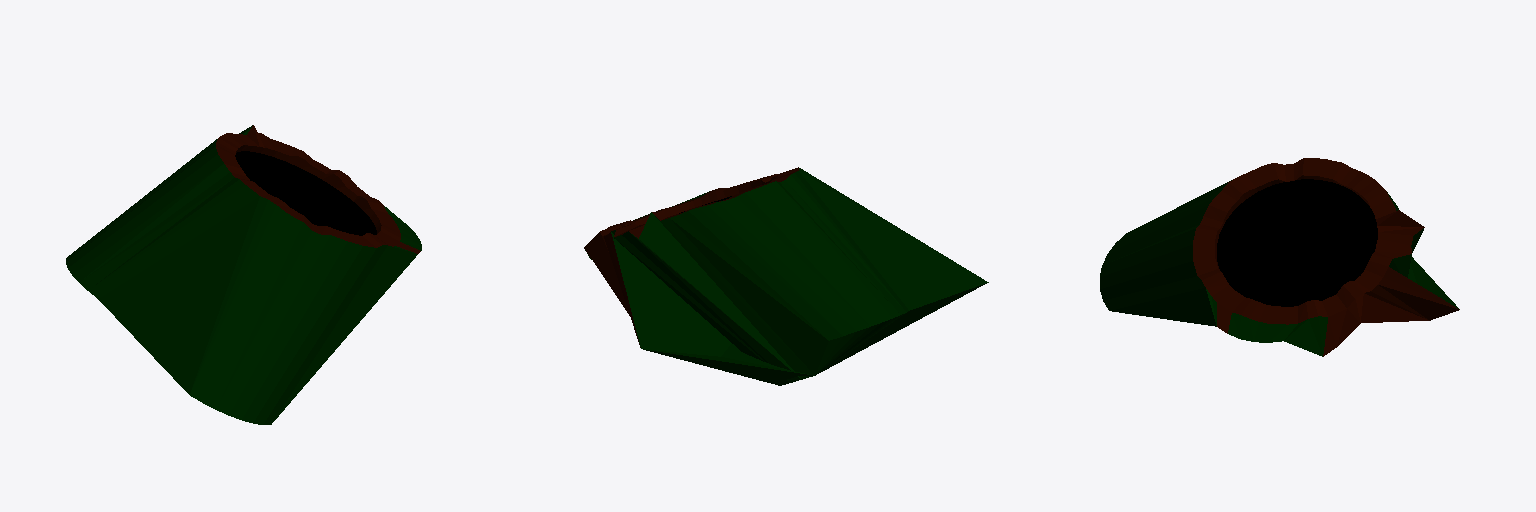
Rendered from rhole.obj.
3 renders of one model, left to right at view 1: azimuth 30°, elevation 25°; view 2: azimuth 150°, elevation 25°; view 3: azimuth 270°, elevation 25°, orthographic.
Visible parts, largest first — view 1: Cylinder; view 2: Cylinder; view 3: Cylinder.
Boxes of the visible parts, box(x1,y1,x2,y2) form: Cylinder: box(66, 125, 421, 424); Cylinder: box(584, 167, 988, 385); Cylinder: box(1100, 158, 1459, 356).
Size of the model in its own units: 4.66 by 2.57 by 4.7.